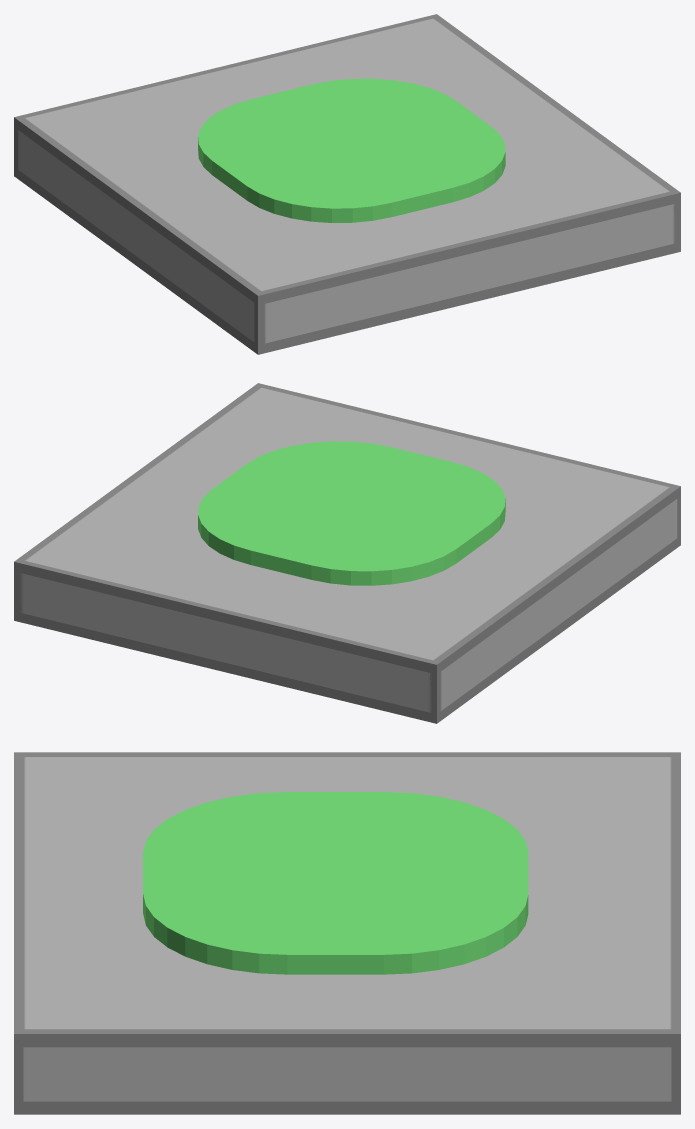
File: tombol.fbx
The picture shows the model from 3 angles, top to bottom: view 1: azimuth 30°, elevation 25°; view 2: azimuth 150°, elevation 25°; view 3: azimuth 270°, elevation 25°; orthographic projection. The views are drawn at different scales.
Visible parts, largest first — view 1: tembok.001; view 2: tembok.001; view 3: tembok.001.
Boxes of the visible parts, left/top/right/bottom form: tembok.001: left=14, top=14, right=680, bottom=354; tembok.001: left=14, top=383, right=680, bottom=723; tembok.001: left=14, top=752, right=680, bottom=1114.
Bounding box in the file's own units: 225 × 37.36 × 225.
Materials: 1 (1 with a texture image).
